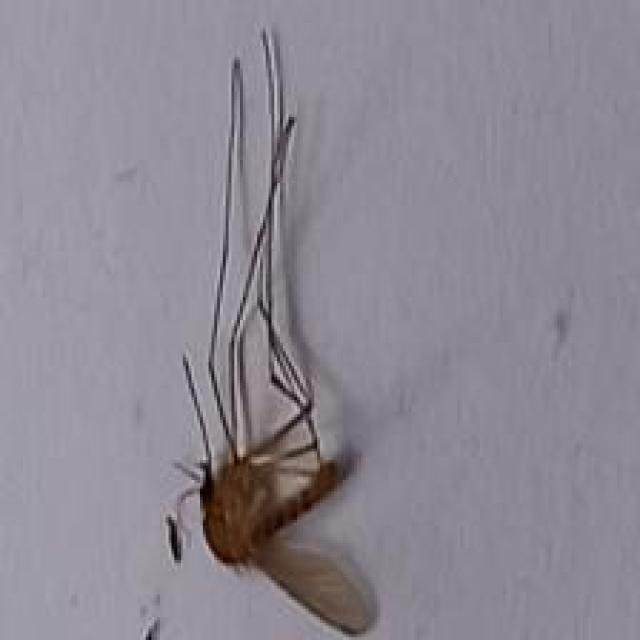Culex: (147, 21, 382, 638)
